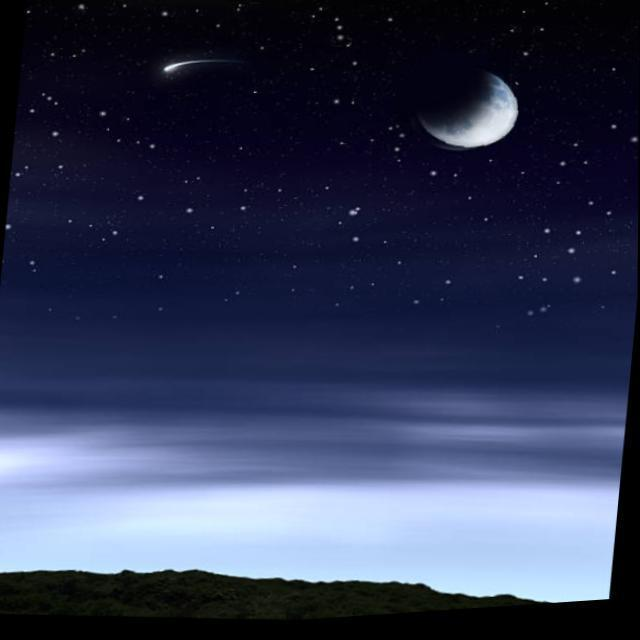moon: (403, 48, 534, 170)
